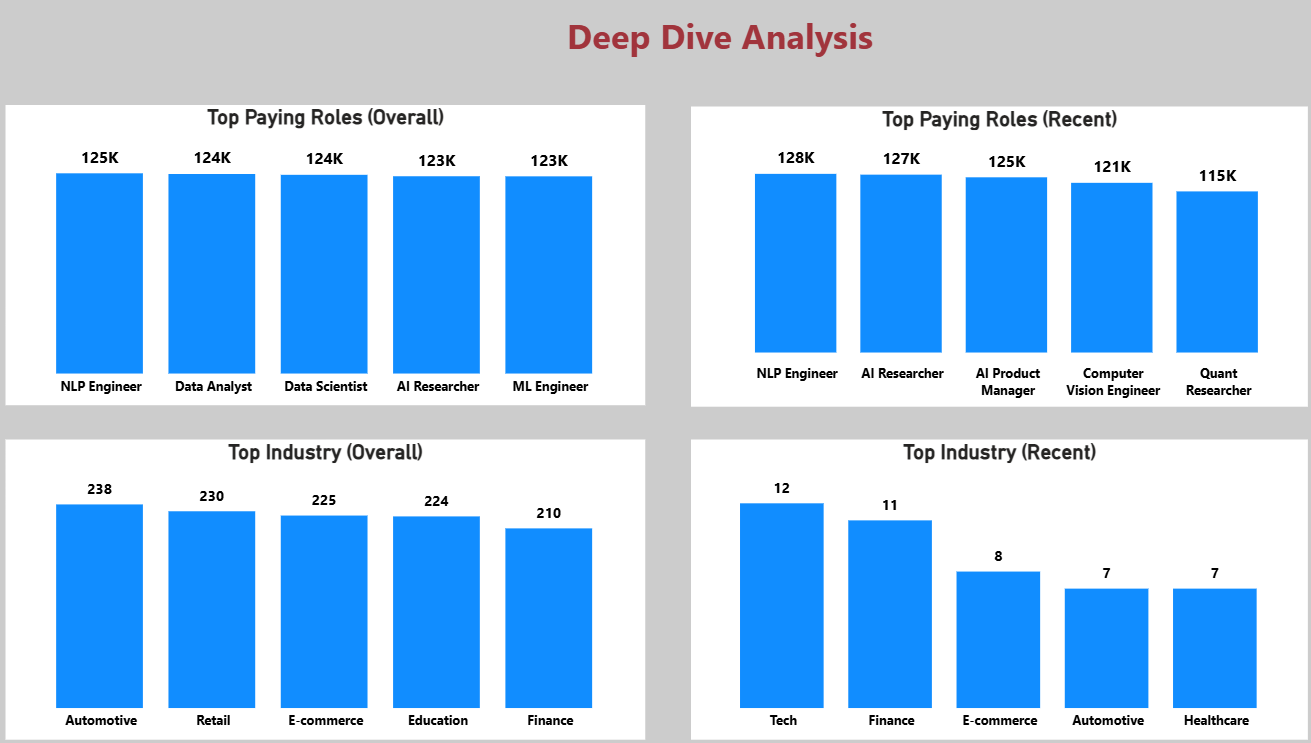

Layout of this report page (visuals, bound fields, positions):
{"tool":"powerbi","page":{"name":"Deep Dive Analysis","canvas":[1280,720],"ordinal":1},"visuals":[{"type":"clusteredColumnChart","title":"Top Industry (Overall)","fields":{"Category":["jobs_data.industry"],"Y":["CountNonNull(jobs_data.job_id)"]},"box":[15.1,424,596.6,280.1],"z":0},{"type":"clusteredColumnChart","title":"Top Industry (Recent)","fields":{"Category":["jobs_data.industry"],"Y":["CountNonNull(jobs_data.job_id)"]},"box":[654.1,424,575.4,280.1],"z":1000},{"type":"clusteredColumnChart","title":"Top Paying Roles (Overall)","fields":{"Y":["Avg(jobs_data.avg_salary)"],"Category":["jobs_data.job_title"]},"box":[15.1,112.1,596.6,280.1],"z":2000},{"type":"clusteredColumnChart","title":"Top Paying Roles (Recent)","fields":{"Y":["Avg(jobs_data.avg_salary)"],"Category":["jobs_data.job_title"]},"box":[654.1,113.6,575.4,280.1],"z":3000},{"type":"textbox","box":[472.4,19.7,417.9,59.1],"z":4000}]}

Visuals, with their boxes in screenshot pixels (x1, y1, x2, y2), scaled from the page's 1280x720 canvas onto the 1311x743 screenshot:
"Top Industry (Overall)" clusteredColumnChart: 15,438,627,727
"Top Industry (Recent)" clusteredColumnChart: 670,438,1259,727
"Top Paying Roles (Overall)" clusteredColumnChart: 15,116,627,405
"Top Paying Roles (Recent)" clusteredColumnChart: 670,117,1259,406
textbox: 484,20,912,81
